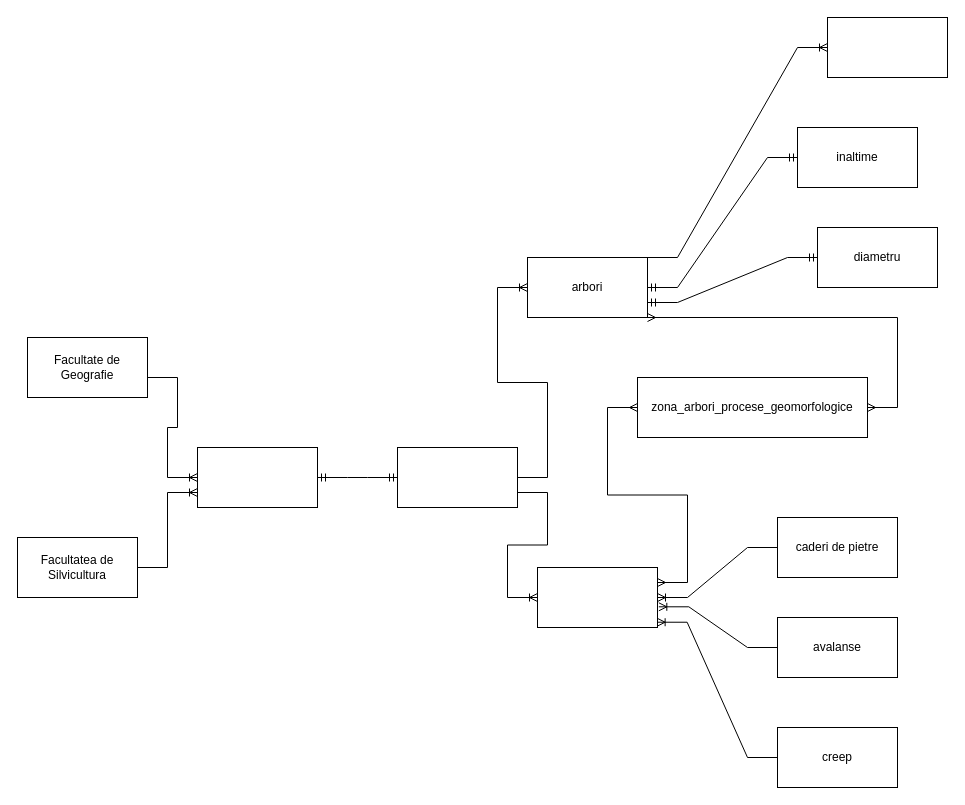
Some shapes in this 965 by 805 pixel diagram are drawn without their labels. The shapes that lost their labels are listed below. From the top down, each one's centre as x and y in pixels, then its label:
At (887,47): "specie".
At (257,477): "dendroconologie".
At (457,477): "dendrogeomorfologie".
At (597,597): "procese geomorfologice".
